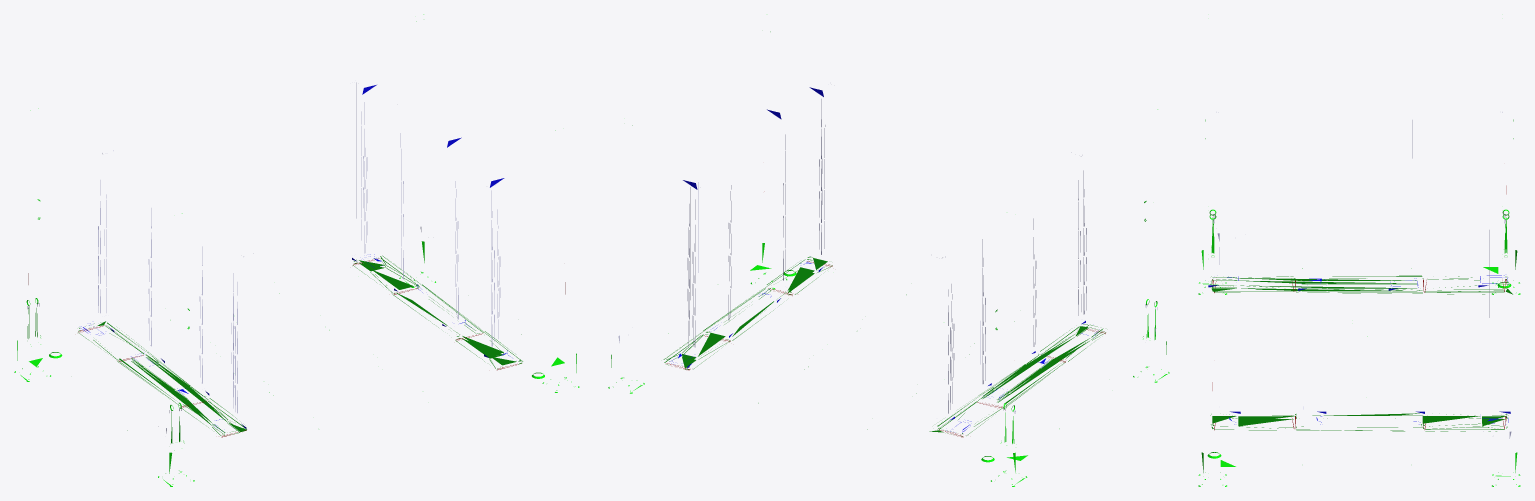
The model's file is T510198_7_Rep.dae.
3 renders of one model, left to right at view 1: azimuth 30°, elevation 25°; view 2: azimuth 150°, elevation 25°; view 3: azimuth 270°, elevation 25°, orthographic. The views are drawn at different scales.
Parts seen in each view (by area): view 1: T510198_7 (×3); view 2: T510198_7 (×3); view 3: T510198_7 (×3).
Part boxes in pixels (x1,y1,x2,y2): T510198_7 (×3): [14, 14, 579, 486]; T510198_7 (×3): [608, 31, 1169, 486]; T510198_7 (×3): [1198, 119, 1520, 486].
Size of the model in its own units: 2400 by 1600 by 1495.
